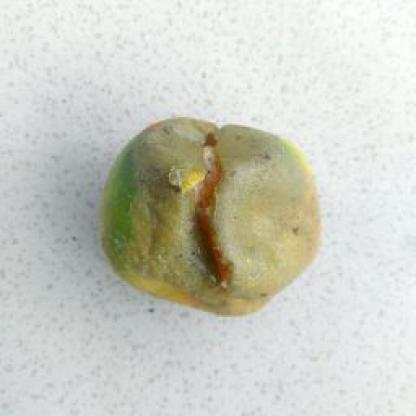orange_rotten: (96, 113, 322, 316)
